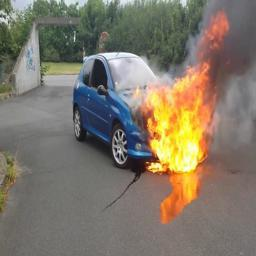fire: (144, 10, 230, 173)
